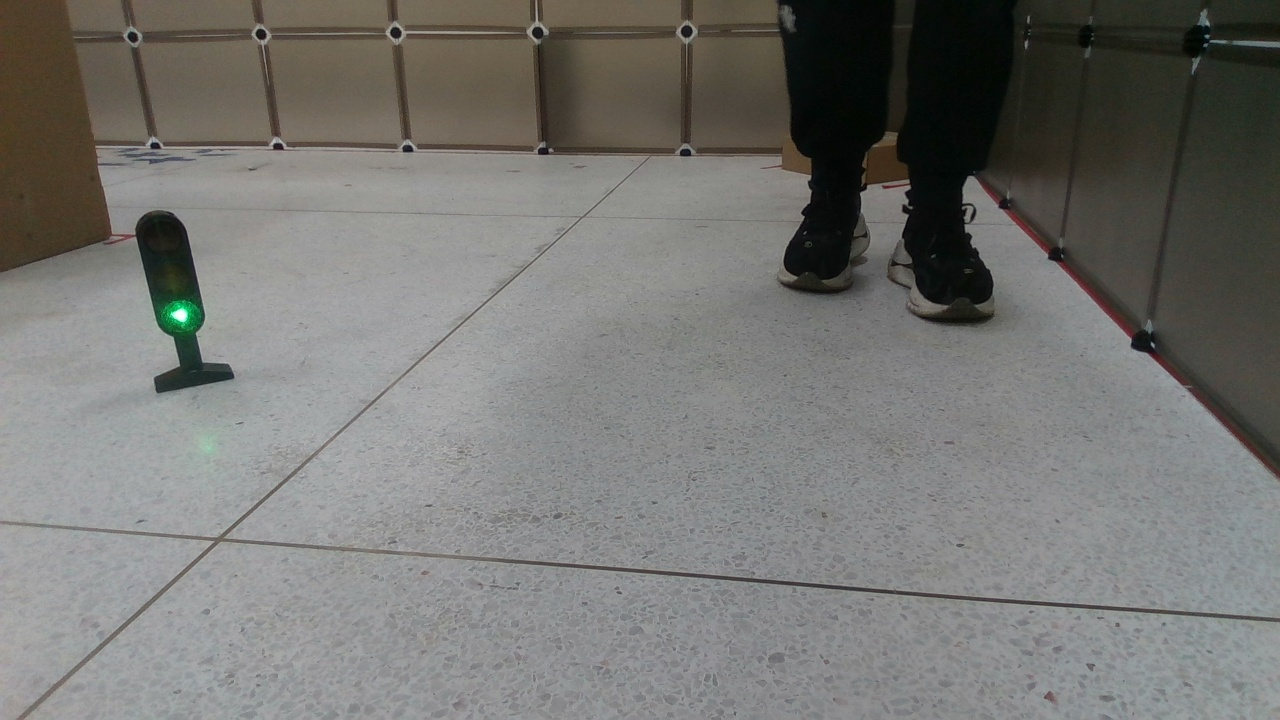Green traffic light: (134, 210, 236, 394)
